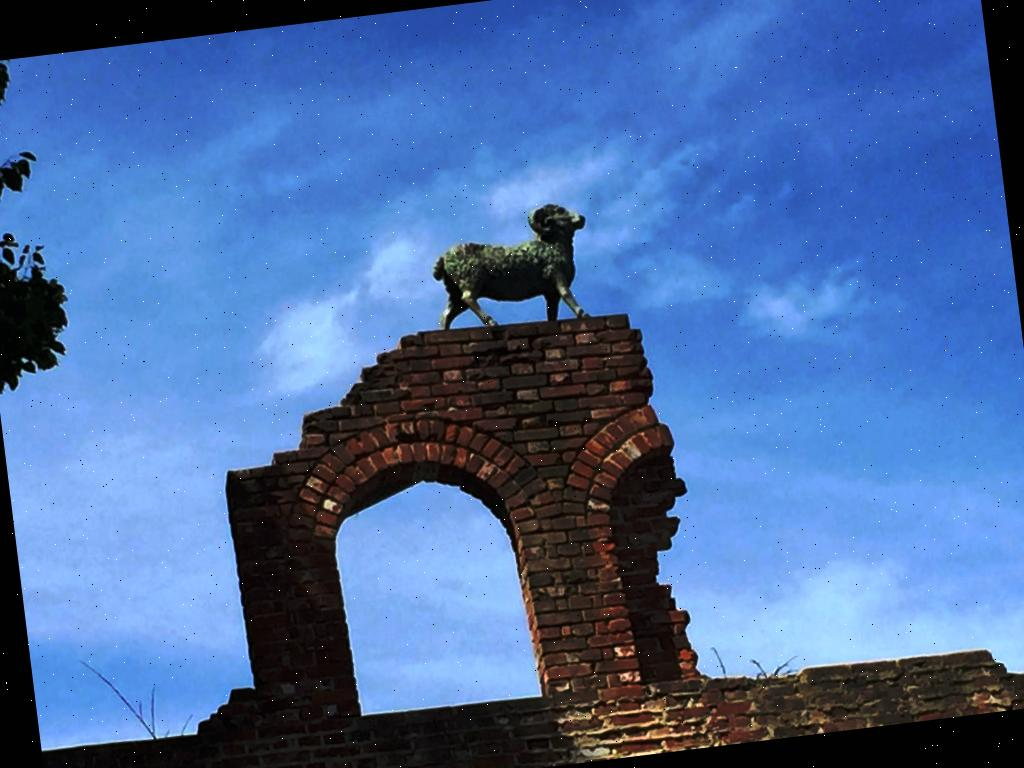Sheep: (430, 201, 596, 335)
